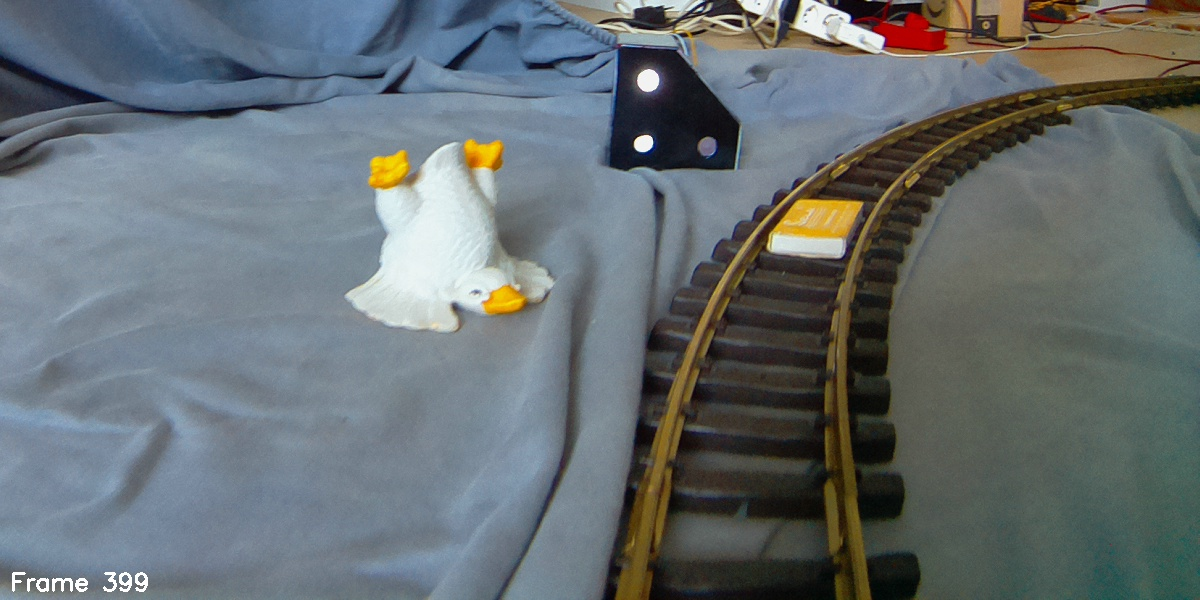Fahrt: (610, 26, 739, 170)
